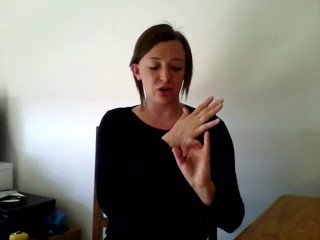L: (167, 93, 228, 186)
